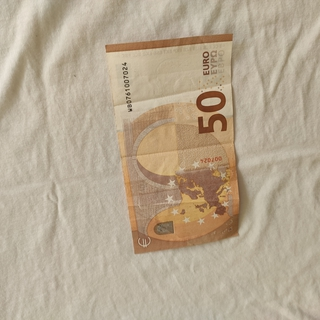50EUROBack: (102, 32, 240, 254)
